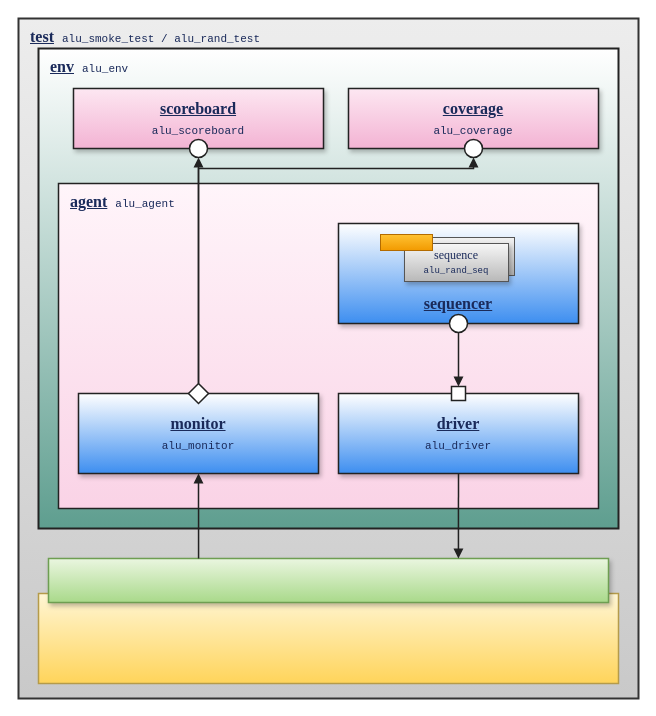
Some shapes in this 656 by 716 pixel diagram are drawn without their labels. Here are the shapes that lost their labels. From the top down, the centre of each, then its label:
At (406,242): "seq_item".
At (329,581): "interface alu_if".
At (328,638): "DUT alu.sv".
